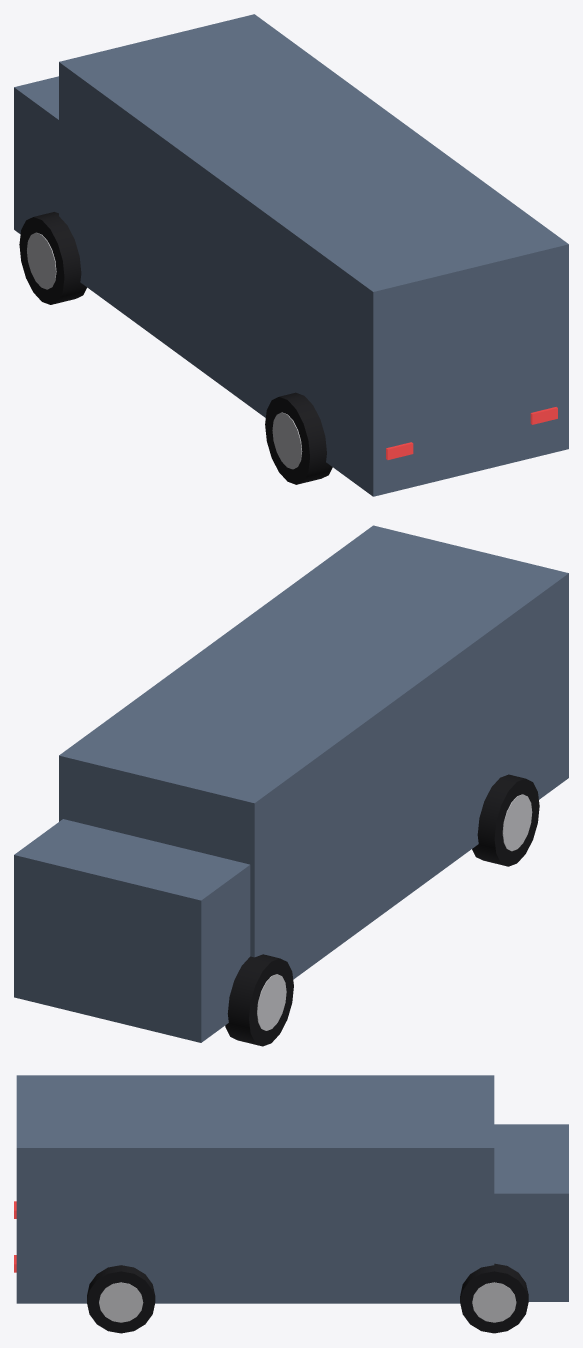
The model's file is truck.glb.
The picture shows the model from 3 angles, top to bottom: view 1: azimuth 30°, elevation 25°; view 2: azimuth 150°, elevation 25°; view 3: azimuth 270°, elevation 25°; orthographic projection. The views are drawn at different scales.
Parts seen in each view (by area): view 1: Cargo_Box, Driver_Cab, Wheel_Front_L, Wheel_Rear_L, Truck_Bus; view 2: Cargo_Box, Driver_Cab, Wheel_Front_L, Wheel_Rear_L; view 3: Cargo_Box, Driver_Cab, Wheel_Front_R, Wheel_Rear_R.
Part boxes in pixels (x1,y1,x2,y2): Cargo_Box: (59,14,568,496); Driver_Cab: (14,76,58,234); Wheel_Front_L: (19,212,86,304); Wheel_Rear_L: (265,392,332,484); Truck_Bus: (386,407,557,459); Cargo_Box: (59,525,568,979); Driver_Cab: (14,819,250,1042); Wheel_Front_L: (225,954,293,1046); Wheel_Rear_L: (472,774,539,866); Cargo_Box: (16,1075,494,1303); Driver_Cab: (494,1124,568,1301); Wheel_Front_R: (460,1263,528,1333); Wheel_Rear_R: (87,1265,155,1333).
Bounding box in the file's own units: 2.71 × 2.65 × 7.43.
